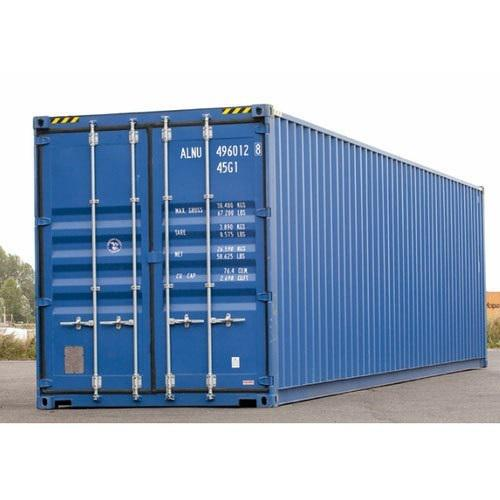ContainerNum: (178, 140, 264, 175)
